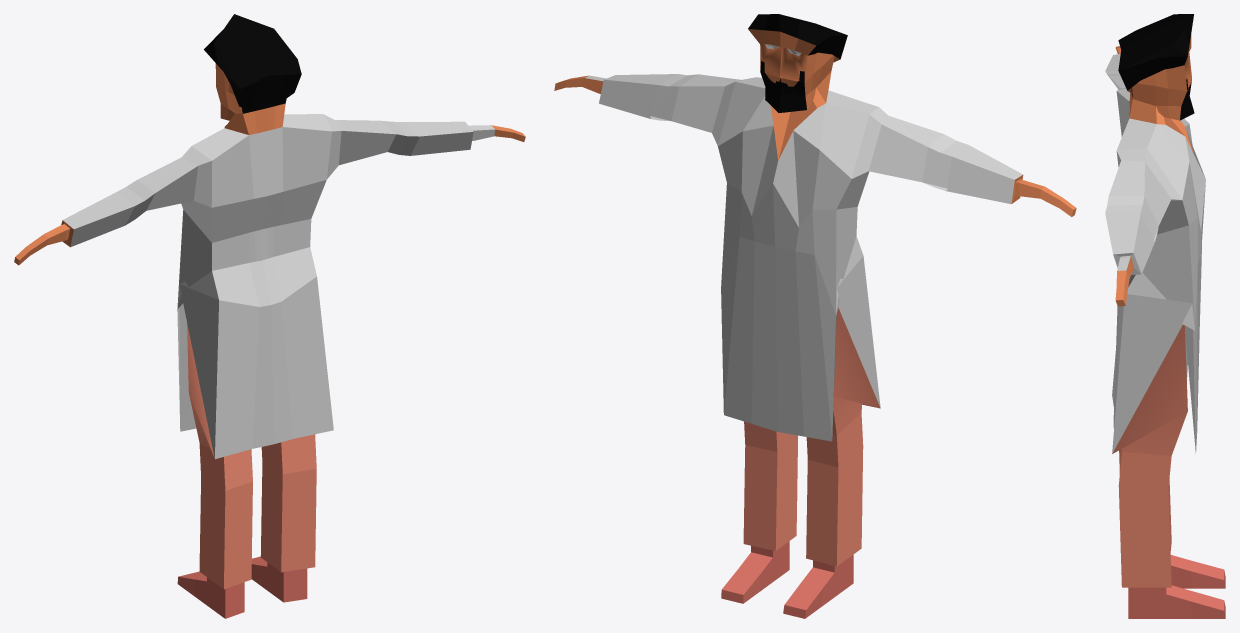
Rendered from Prisoner.fbx.
The picture shows the model from 3 angles, left to right: view 1: azimuth 30°, elevation 25°; view 2: azimuth 150°, elevation 25°; view 3: azimuth 270°, elevation 25°; orthographic projection. The views are drawn at different scales.
Parts seen in each view (by area): view 1: Extra; view 2: Extra; view 3: Extra.
Boxes of the visible parts, left/top/right/bottom form: Extra: left=14, top=14, right=525, bottom=618; Extra: left=554, top=14, right=1076, bottom=618; Extra: left=1105, top=14, right=1225, bottom=618.
Bounding box in the file's own units: 933 × 1003 × 188.
